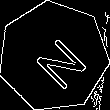N_NW: (22, 24, 86, 89)
